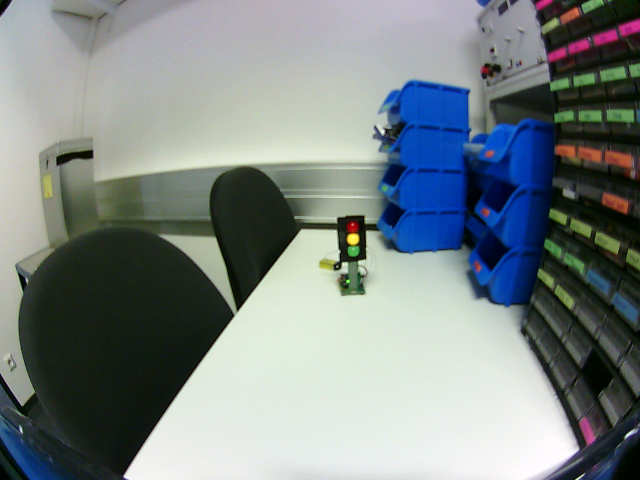yellow trafficlight: (341, 220, 366, 258)
